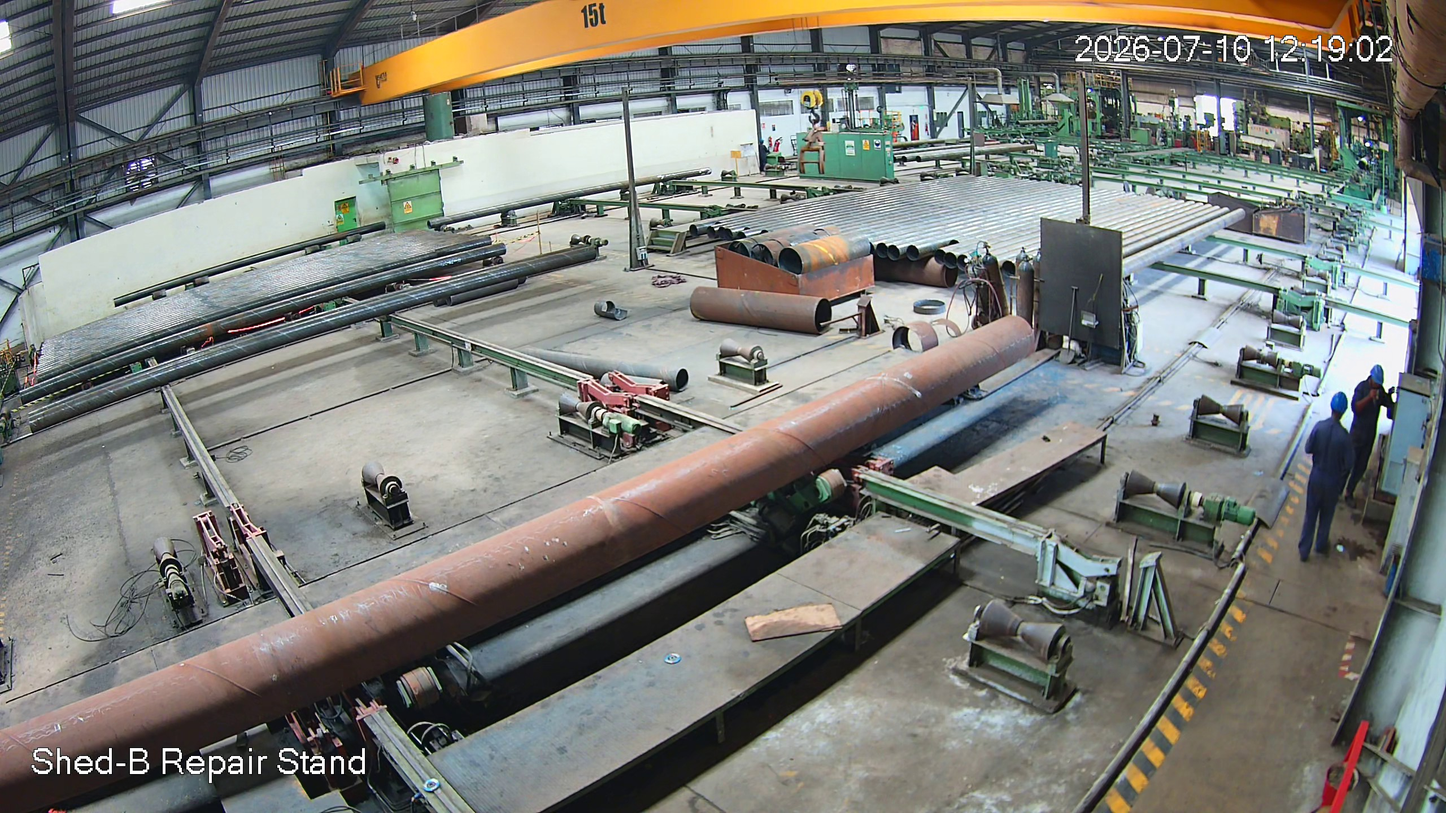Helmet: (1322, 390, 1350, 428), (1359, 364, 1389, 388)
Person: (1300, 391, 1351, 565), (1340, 366, 1390, 500)
